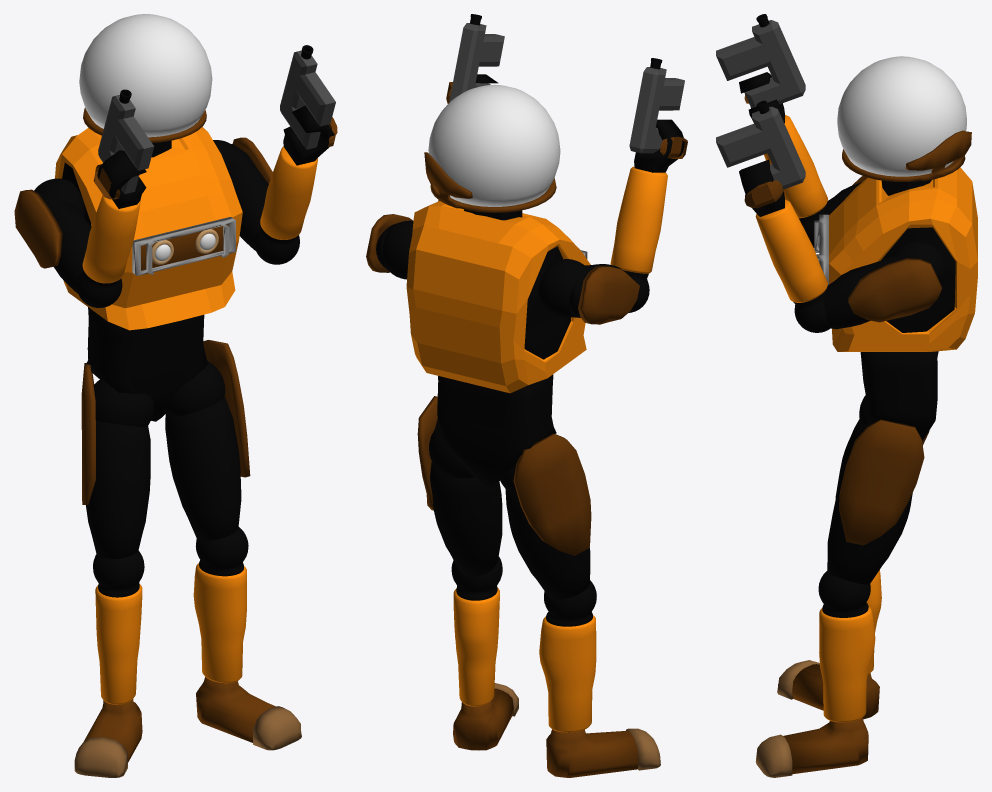
File: RISK OF RAIN.fbx
The picture shows the model from 3 angles, left to right: view 1: azimuth 30°, elevation 25°; view 2: azimuth 150°, elevation 25°; view 3: azimuth 270°, elevation 25°; orthographic projection. The views are drawn at different scales.
Visible parts, largest first — view 1: Cube, Sphere.001, Cylinder.004, Cylinder.007, Cube.005, Cylinder.005, Cylinder.006, Cube.008, Cube.014, Cube.007, Cube.015, Sphere.003 (+5 smaller); view 2: Cube, Sphere.001, Cylinder.007, Cube.005, Cylinder.004, Cylinder.006, Cylinder.005, Cube.008, Sphere.002, Cube.006, Cube.015, Cube.007 (+4 smaller); view 3: Cube, Sphere.001, Cylinder.004, Cylinder.002, Cylinder.005, Cube.014, Cube.005, Cube.015, Sphere.003, Cube.007, Cube.002, Sphere.002 (+5 smaller).
Part boxes in pixels (bbox=[...]): Cube: bbox=[55, 127, 242, 330]; Sphere.001: bbox=[79, 14, 212, 137]; Cylinder.004: bbox=[165, 340, 250, 540]; Cylinder.007: bbox=[81, 363, 154, 558]; Cube.005: bbox=[86, 307, 207, 421]; Cylinder.005: bbox=[193, 527, 248, 683]; Cylinder.006: bbox=[93, 550, 144, 704]; Cube.008: bbox=[14, 178, 91, 293]; Cube.014: bbox=[280, 45, 337, 165]; Cube.007: bbox=[196, 677, 301, 750]; Cube.015: bbox=[93, 89, 154, 208]; Sphere.003: bbox=[254, 146, 317, 264]; Cube: bbox=[406, 201, 590, 393]; Sphere.001: bbox=[428, 84, 560, 206]; Cylinder.007: bbox=[500, 433, 591, 599]; Cube.005: bbox=[434, 374, 556, 487]; Cylinder.004: bbox=[417, 396, 502, 576]; Cylinder.006: bbox=[539, 580, 596, 732]; Cylinder.005: bbox=[451, 556, 502, 706]; Cube.008: bbox=[538, 259, 639, 324]; Sphere.002: bbox=[610, 166, 667, 312]; Cube.006: bbox=[546, 728, 660, 777]; Cube.015: bbox=[629, 58, 687, 172]; Cube.007: bbox=[453, 683, 518, 750]; Cube: bbox=[829, 167, 977, 351]; Sphere.001: bbox=[837, 56, 966, 176]; Cylinder.004: bbox=[827, 419, 924, 584]; Cylinder.002: bbox=[823, 240, 946, 329]; Cylinder.005: bbox=[818, 571, 875, 722]; Cube.014: bbox=[716, 100, 805, 216]; Cube.005: bbox=[860, 351, 938, 440]; Cube.015: bbox=[716, 14, 805, 123]; Sphere.003: bbox=[755, 199, 830, 332]; Cube.007: bbox=[755, 717, 868, 777]; Cube.002: bbox=[881, 227, 955, 332]; Sphere.002: bbox=[764, 115, 827, 247].
Bounding box in the file's own units: 194 × 541 × 190.
